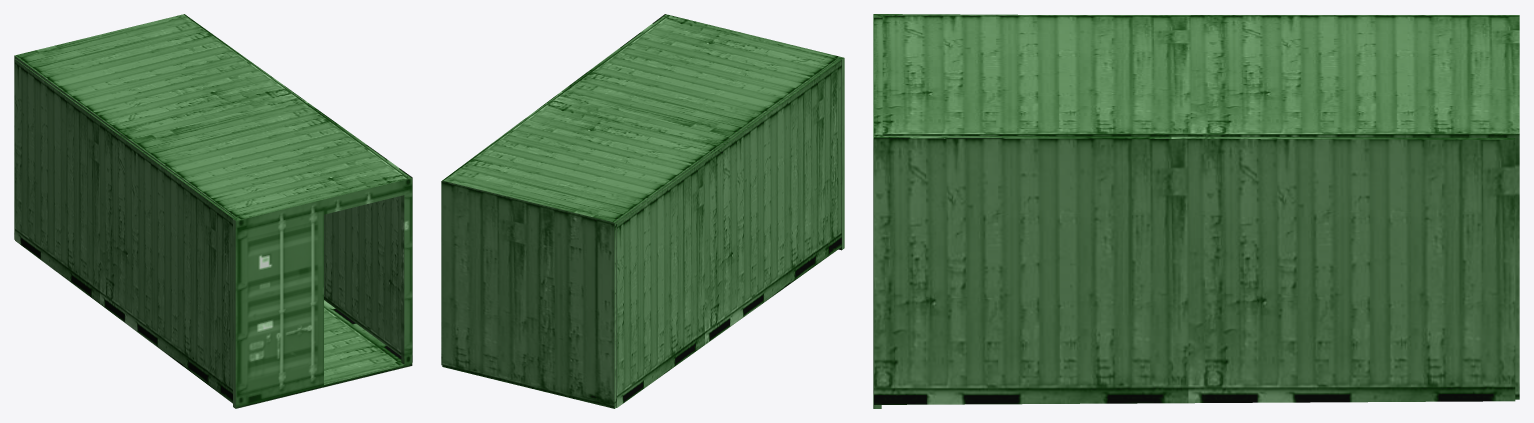
The model's file is Container Green door.FBX.
3 renders of one model, left to right at view 1: azimuth 30°, elevation 25°; view 2: azimuth 150°, elevation 25°; view 3: azimuth 270°, elevation 25°, orthographic. The views are drawn at different scales.
Visible parts, largest first — view 1: Container Green Door; view 2: Container Green Door; view 3: Container Green Door.
Boxes of the visible parts, x1=… form: Container Green Door: x1=14, y1=14, x2=412, y2=408; Container Green Door: x1=441, y1=14, x2=844, y2=408; Container Green Door: x1=873, y1=14, x2=1519, y2=408.
Bounding box in the file's own units: 284 × 289 × 623.
Materials: 1 (1 with a texture image).
